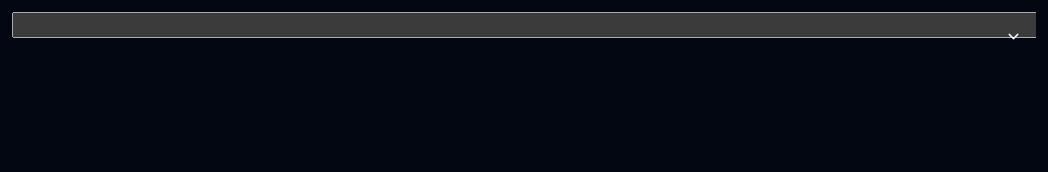
it: FilterSelect › says so when nothing matches, and commits nothing
The image size is (1048, 172).
Type "zzz" into the dropdown at (524, 25), box [12, 12, 1036, 38]
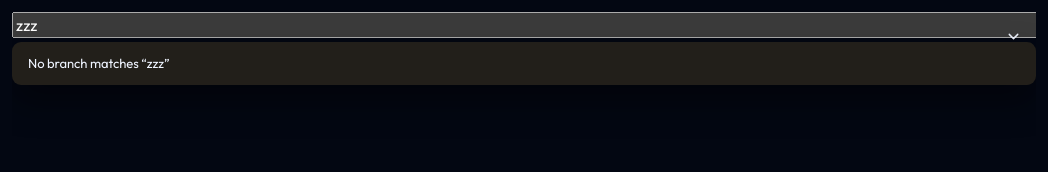
Expected: the list item "No branch matches “zzz”" is shown, [28, 55, 170, 71]
